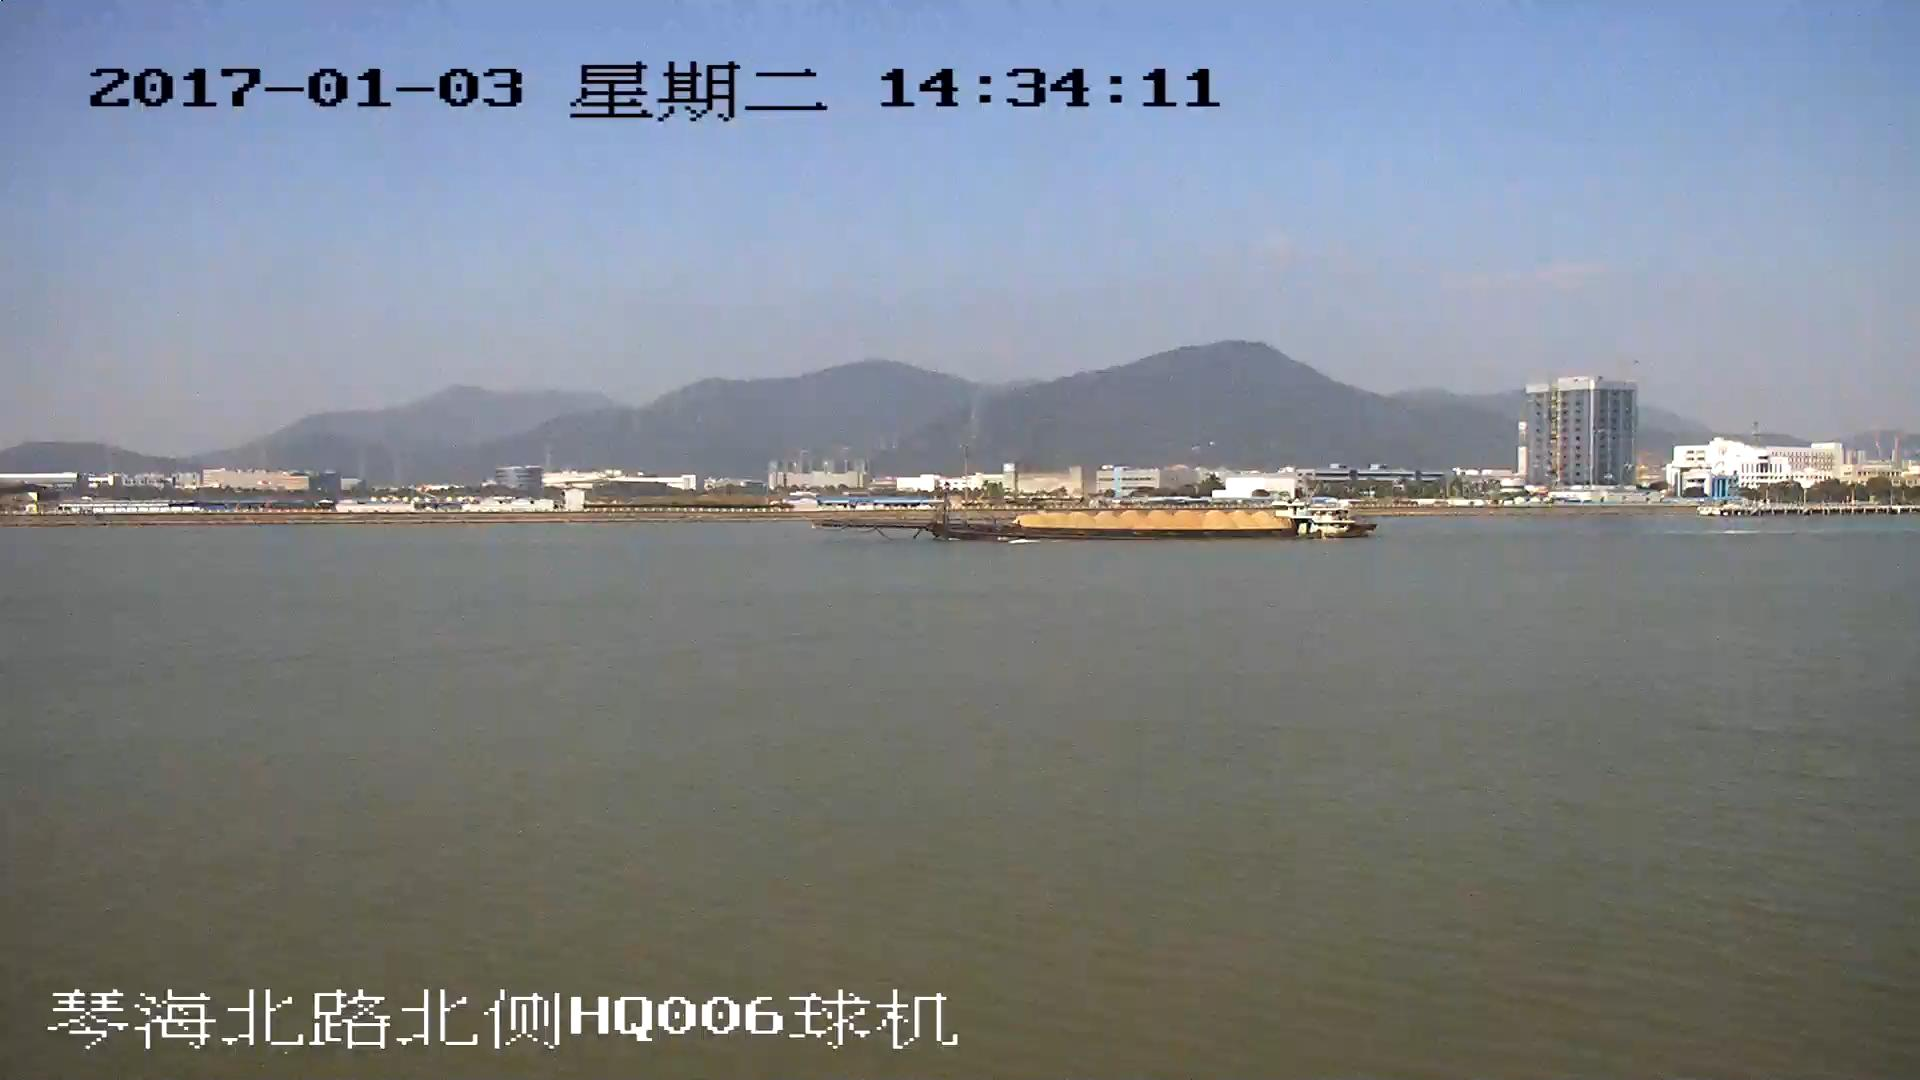ore carrier: (818, 492, 1375, 540)
